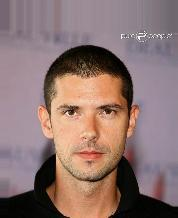face: (60, 101, 118, 162)
